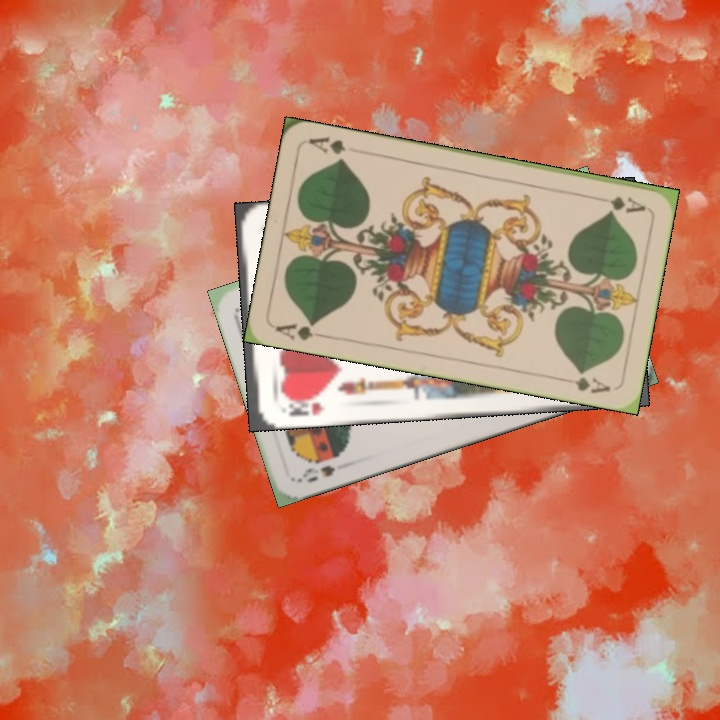GA: (271, 317, 330, 343), (590, 192, 648, 215)
HK: (280, 391, 327, 419)
SO: (295, 461, 338, 486)
